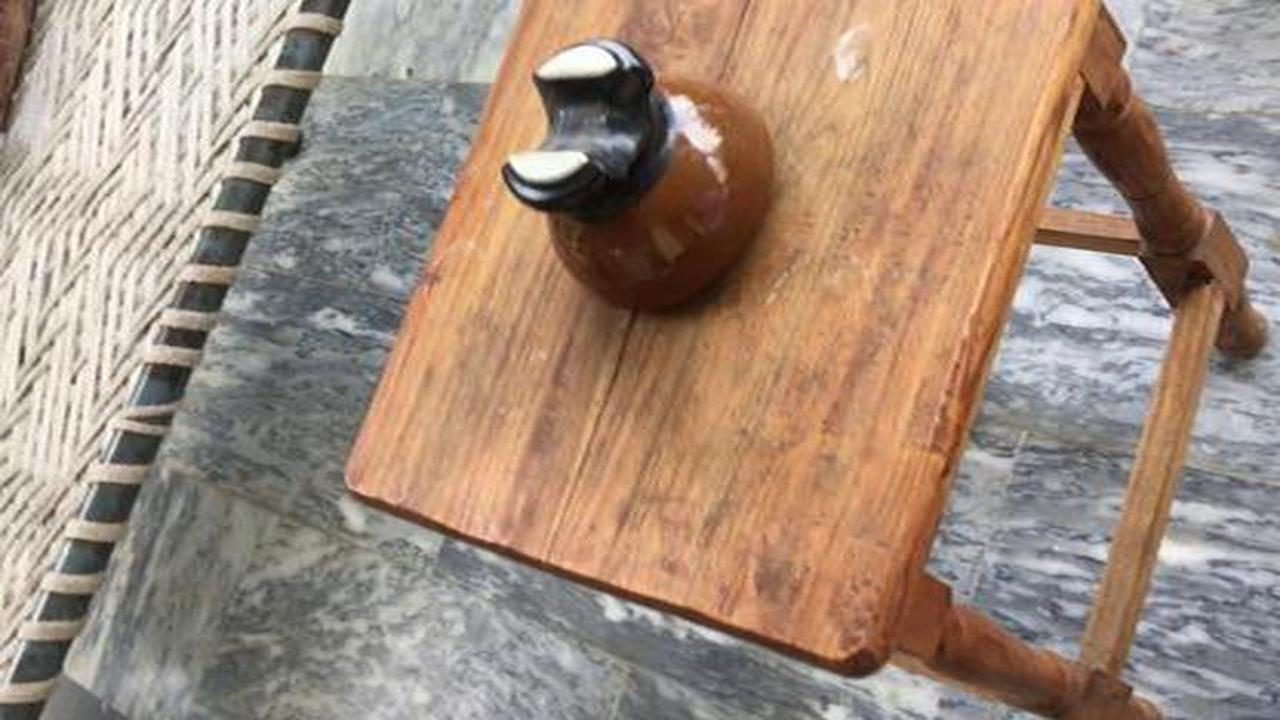insulator_pin: (471, 37, 788, 329)
